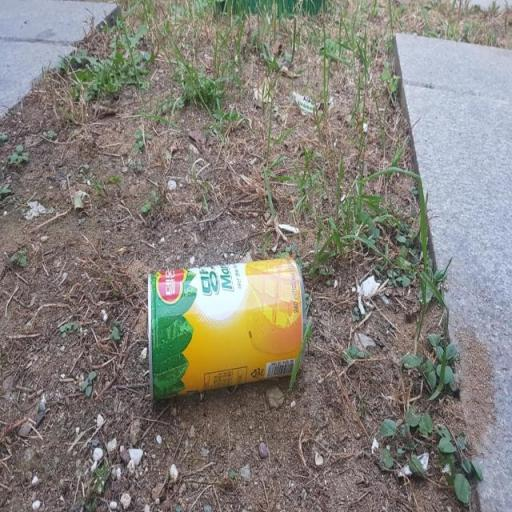metal: (134, 255, 312, 409)
